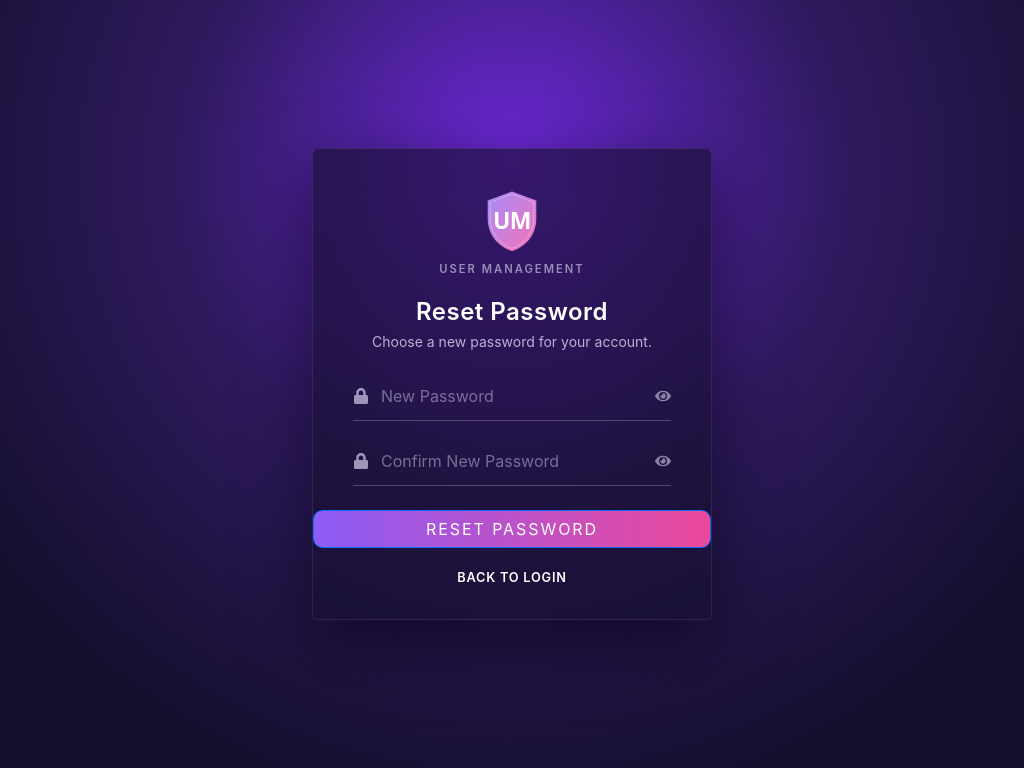
ResetPassword › submits the new password using the uid/token from the URL
Type "NewPass123!" into the password field labelled "New Password".
click(512, 396); type("NewPass123!")  # box top-left (381, 380), bottom-right (643, 412)
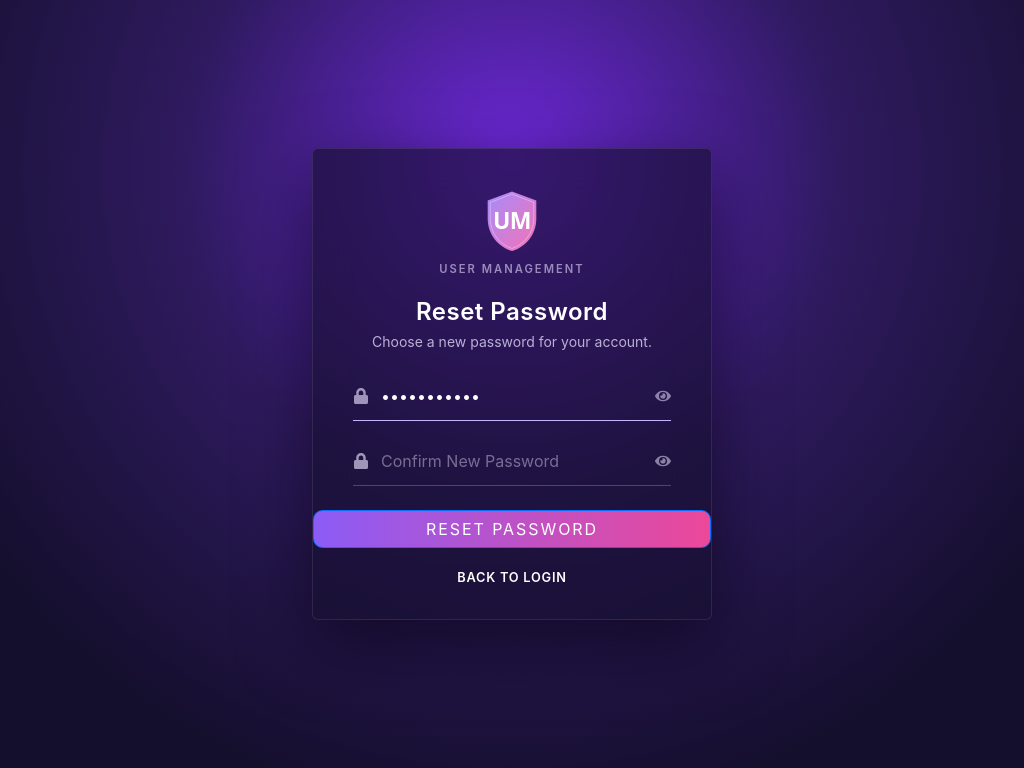
Type "NewPass123!" into the password field labelled "Confirm New Password".
click(512, 461); type("NewPass123!")  # box top-left (381, 445), bottom-right (643, 477)
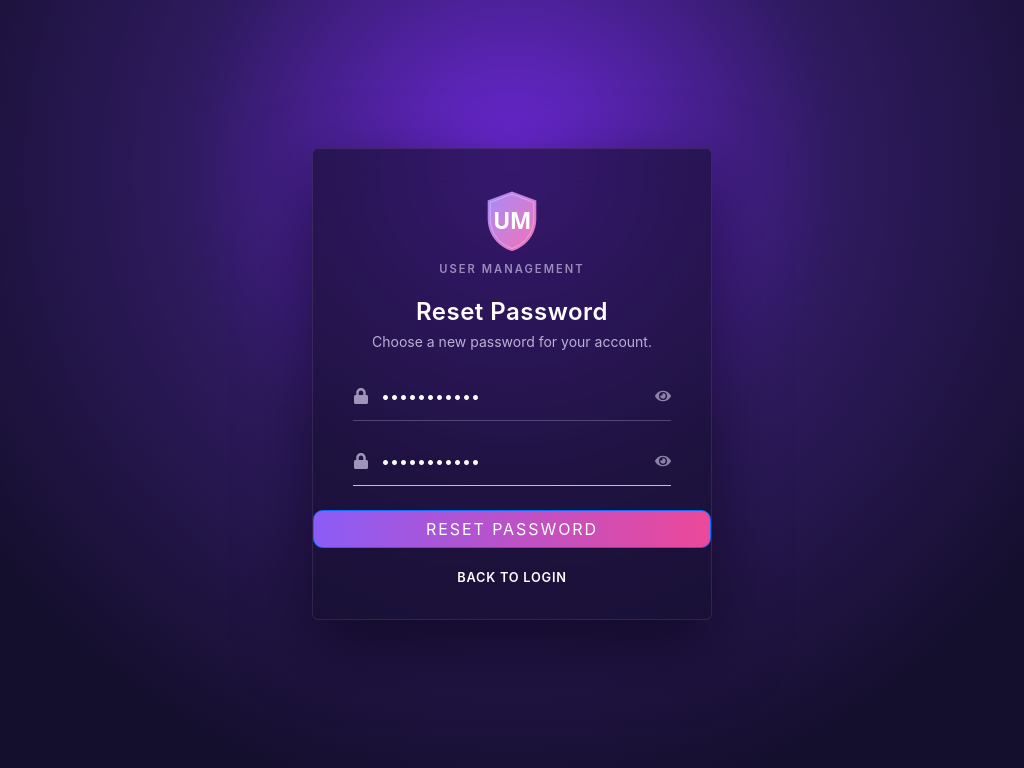
Click the button "Reset Password".
click(512, 529)  # box top-left (313, 510), bottom-right (711, 548)
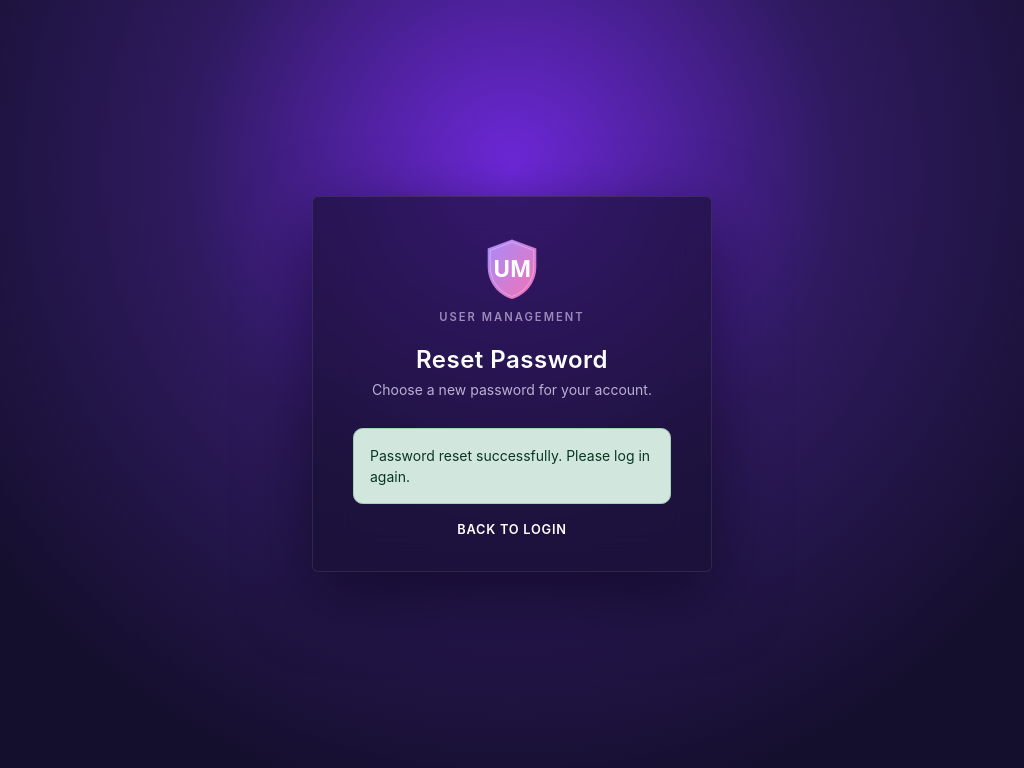
expect the text "Password reset successfully. Please log in again." is shown: met, box top-left (353, 428), bottom-right (671, 504)
